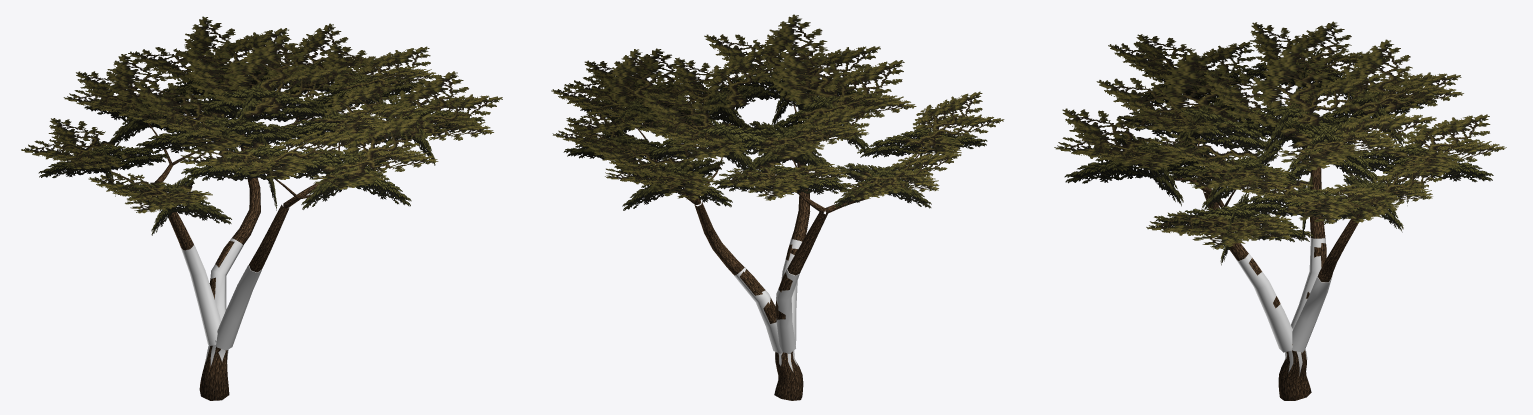
Rendered from Acacia-02-Forquilha.glb.
3 renders of one model, left to right at view 1: azimuth 30°, elevation 25°; view 2: azimuth 150°, elevation 25°; view 3: azimuth 270°, elevation 25°, orthographic. The views are drawn at different scales.
Parts seen in each view (by area): view 1: Acacia-02-Forquilha, Acacia-02-Forquilha_COL; view 2: Acacia-02-Forquilha, Acacia-02-Forquilha_COL; view 3: Acacia-02-Forquilha, Acacia-02-Forquilha_COL.
Boxes of the visible parts, <box> form: Acacia-02-Forquilha: <box>21,16,502,400</box>; Acacia-02-Forquilha_COL: <box>181,238,261,365</box>; Acacia-02-Forquilha: <box>551,14,1004,400</box>; Acacia-02-Forquilha_COL: <box>734,239,801,371</box>; Acacia-02-Forquilha: <box>1054,21,1506,400</box>; Acacia-02-Forquilha_COL: <box>1236,238,1332,375</box>.
Size of what is drawn, in the model's own units: 11.16 by 7.23 by 10.14.
3 materials, 3 textured.
